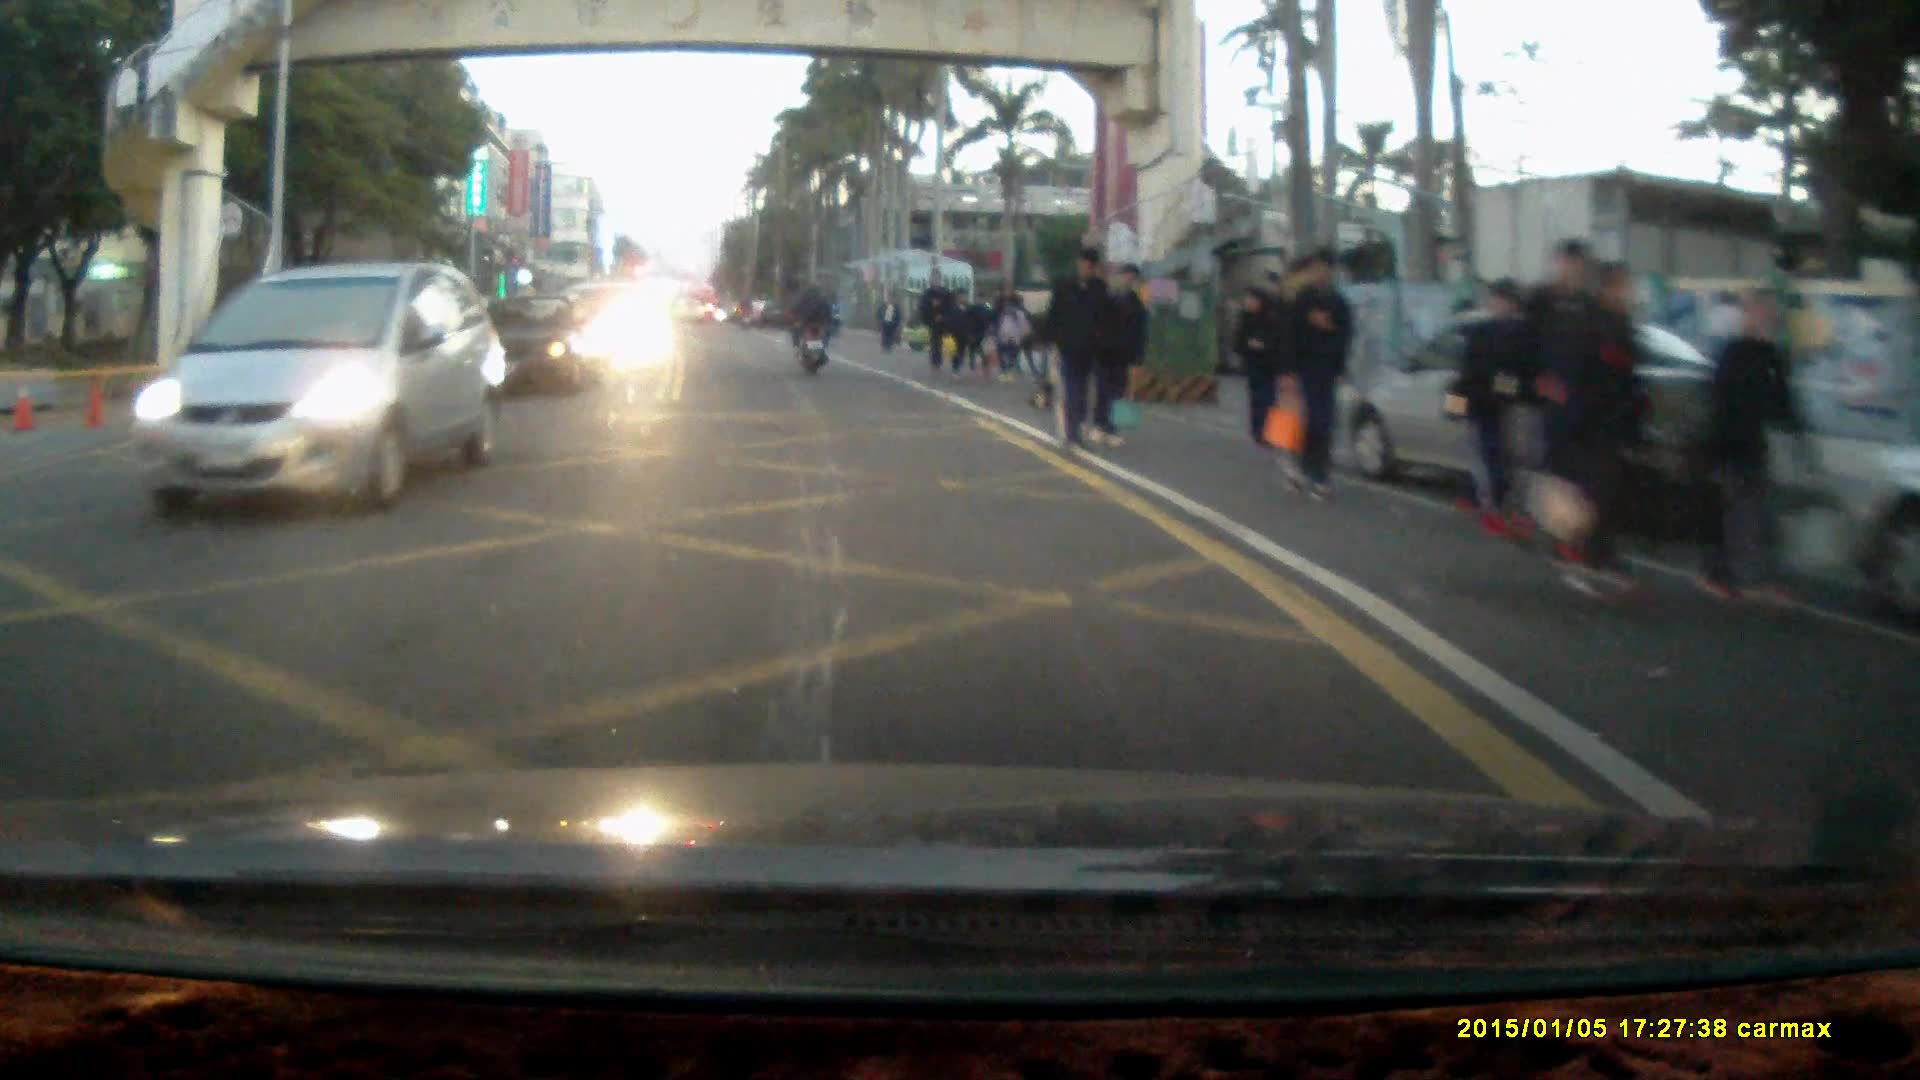pedestrian: (1688, 283, 1817, 622), (1567, 256, 1653, 620), (1514, 238, 1608, 575), (1462, 277, 1549, 535), (1281, 249, 1356, 506), (1047, 251, 1121, 458), (1099, 268, 1159, 452), (1234, 290, 1284, 462), (992, 278, 1037, 387), (917, 267, 952, 375), (946, 283, 978, 374), (875, 287, 902, 354)
rider: (790, 282, 834, 380)
vehicle: (119, 262, 513, 518), (1350, 309, 1779, 541), (469, 298, 607, 403), (1845, 443, 1920, 634)
